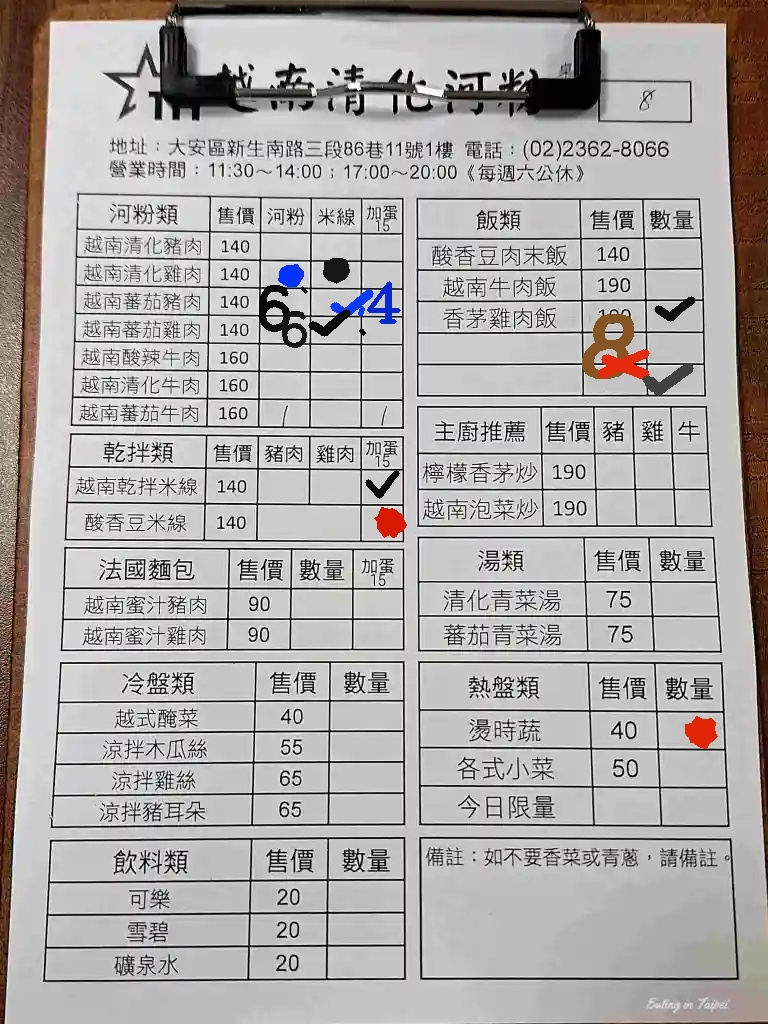marked_circle: (657, 713, 726, 748), (362, 502, 402, 539), (262, 258, 311, 286), (312, 259, 361, 287)
marked_number_4: (363, 287, 403, 317)
marked_number_6: (261, 288, 310, 316), (259, 316, 308, 344)
marked_number_8: (585, 331, 645, 361)
marked_tick: (643, 299, 703, 329), (646, 363, 706, 393), (361, 468, 401, 505), (313, 288, 362, 316), (312, 316, 361, 344)
marked_x: (585, 362, 645, 392)
